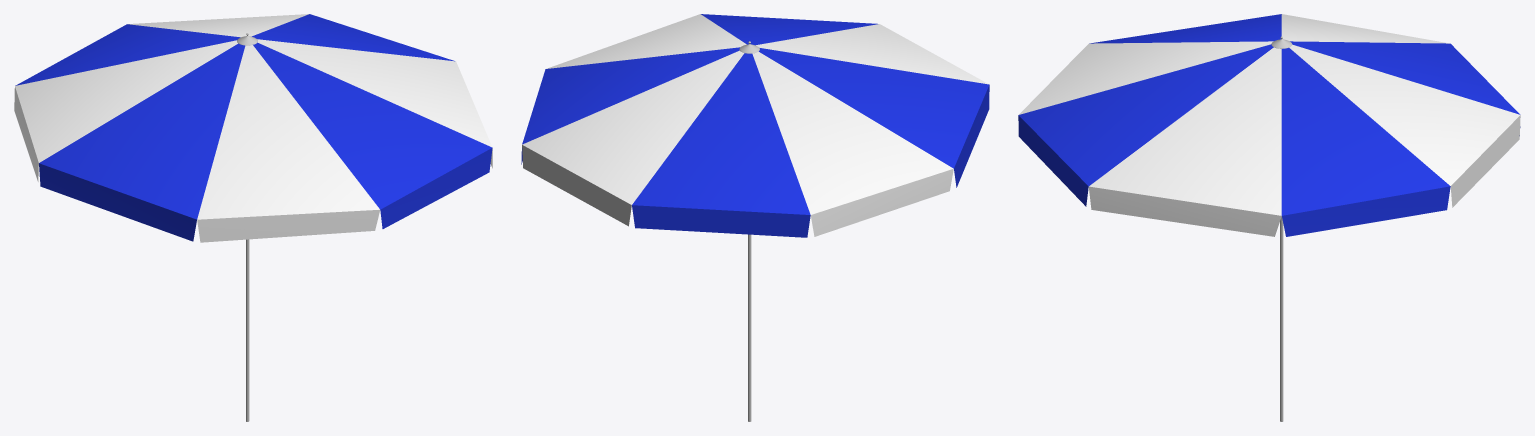
File: blue umbrella.fbx
3 views of the same model, side by side, from view 1: azimuth 30°, elevation 25°; view 2: azimuth 150°, elevation 25°; view 3: azimuth 270°, elevation 25° (orthographic). The views are drawn at different scales.
Visible parts, largest first — view 1: umbrella, bar; view 2: umbrella, bar; view 3: umbrella, bar.
Part boxes in pixels (bbox=[...]): umbrella: bbox=[14, 14, 492, 242]; bar: bbox=[246, 239, 249, 421]; umbrella: bbox=[521, 14, 989, 237]; bar: bbox=[748, 234, 751, 421]; umbrella: bbox=[1018, 14, 1520, 236]; bar: bbox=[1280, 216, 1283, 421].
Bounding box in the file's own units: 485 × 431 × 510.
